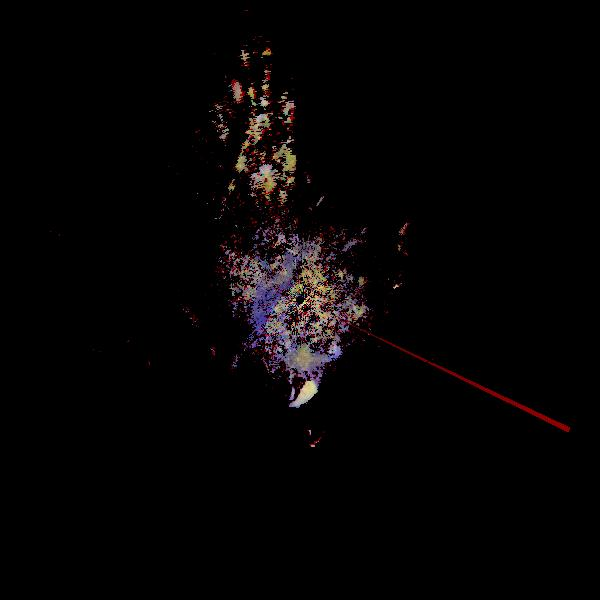roost: (266, 341, 338, 413), (391, 208, 457, 274), (285, 403, 336, 454)
